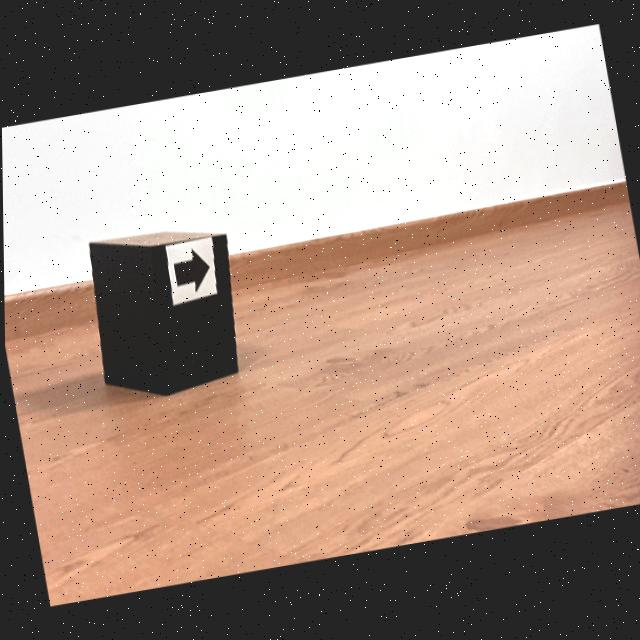RIGHT: (173, 250, 209, 291)
